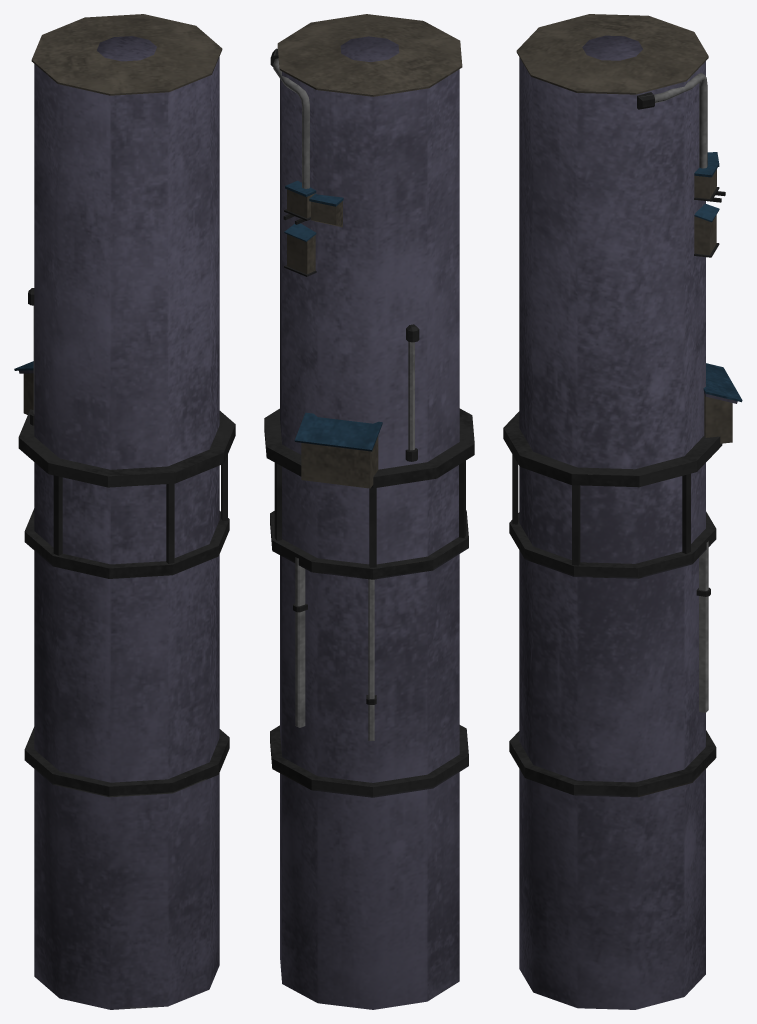
File: CHM0310179.fbx
The picture shows the model from 3 angles, left to right: view 1: azimuth 30°, elevation 25°; view 2: azimuth 150°, elevation 25°; view 3: azimuth 270°, elevation 25°; orthographic projection.
Visible parts, largest first — view 1: smCHM0310179; view 2: smCHM0310179; view 3: smCHM0310179.
Part boxes in pixels (x1,y1,x2,y2): smCHM0310179: (14, 14, 235, 1009); smCHM0310179: (264, 14, 474, 1009); smCHM0310179: (503, 14, 742, 1009).
Bounding box in the file's own units: 312 × 1492 × 350.
